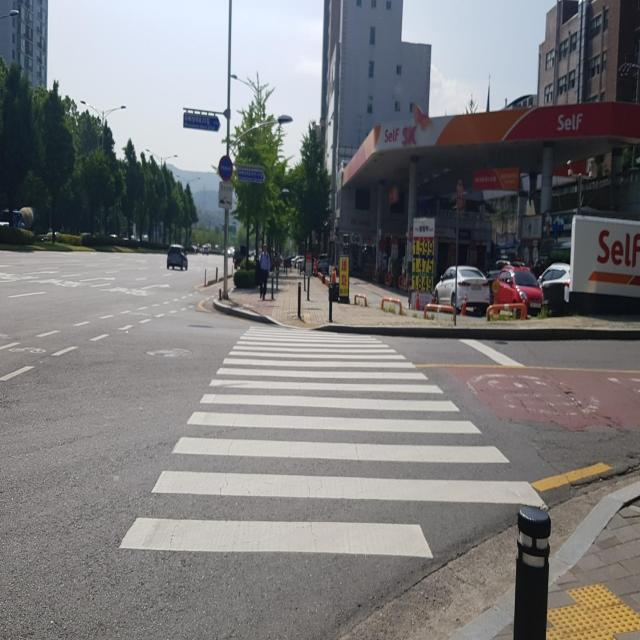횡단보도: (117, 319, 551, 562)
